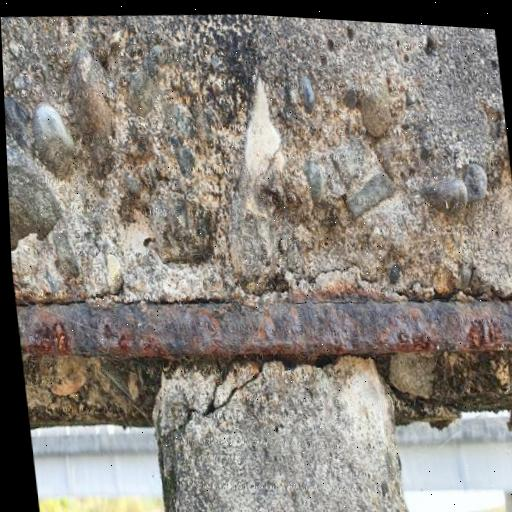exposed_rebar: (17, 301, 512, 362)
